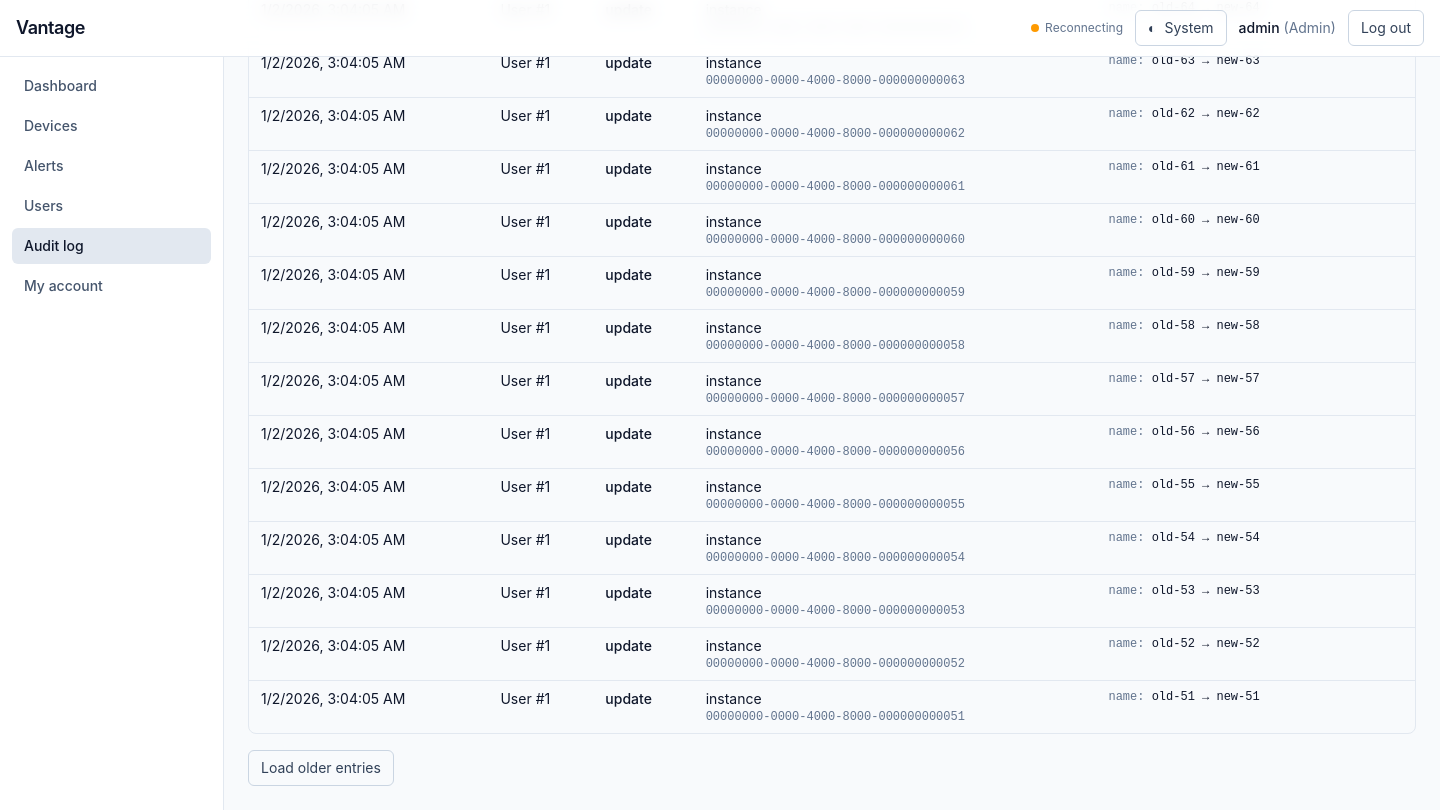
Test: audit page › pages backwards with before_id until a short page
The image size is (1440, 810).
(page scrolled)
Click the button "Load older entries": (321,768) [248,750,394,786]
(page scrolled)
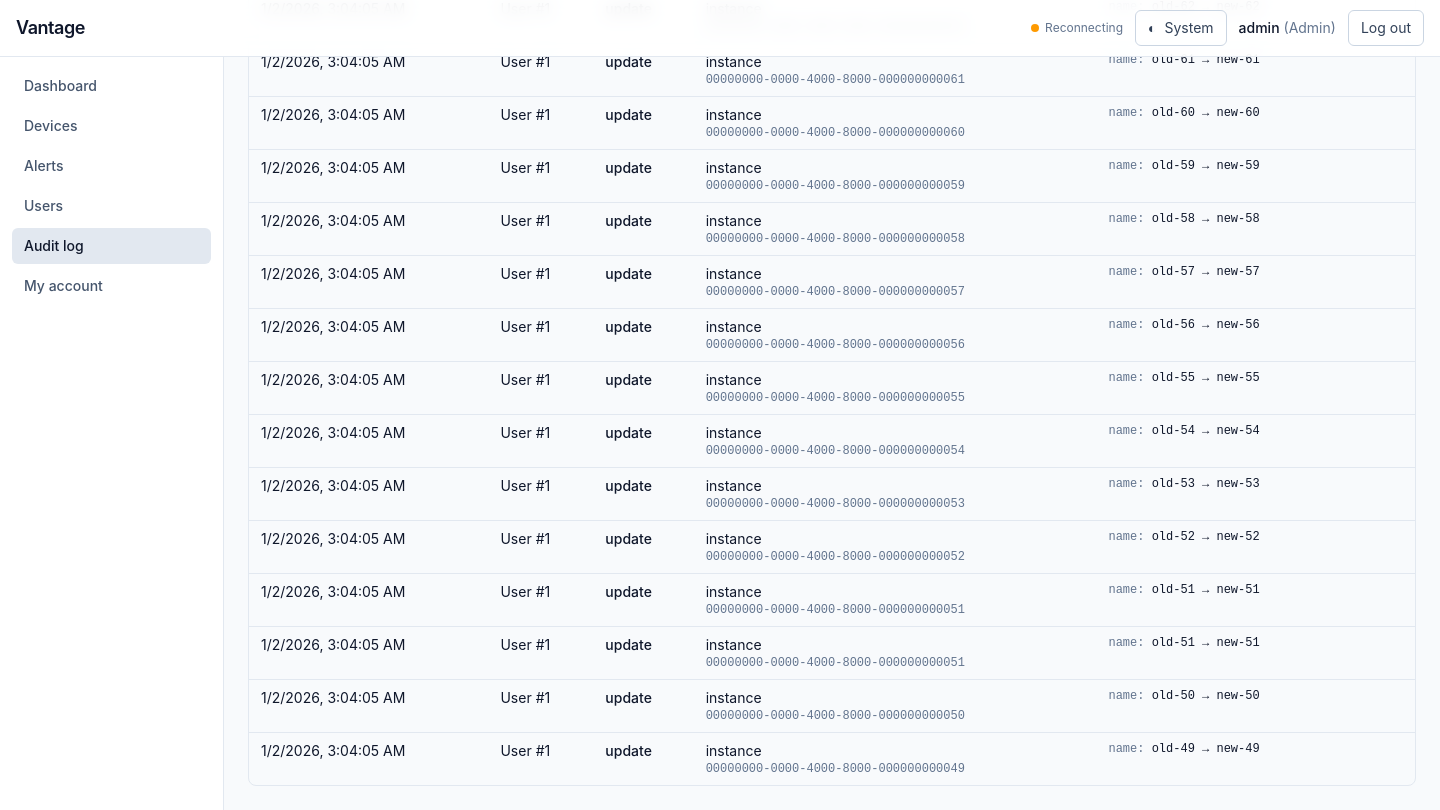
Expected: the button "Load older entries" is gone
Expected: the text "new-49" is shown, [1152,742,1260,756]
